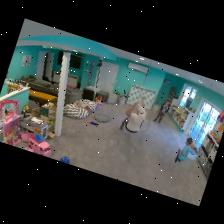person: (119, 97, 145, 132), (174, 138, 191, 162), (153, 100, 168, 123)
